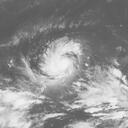cyclone: (39, 38, 79, 78)
